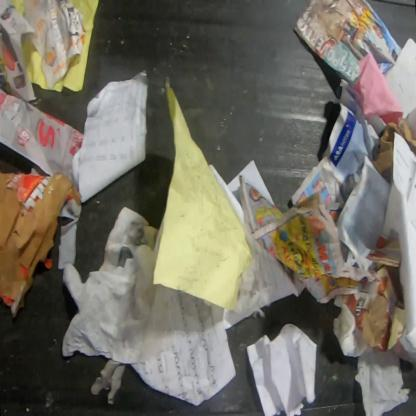cardboard: (0, 171, 84, 320), (382, 37, 416, 140), (370, 116, 416, 176)
